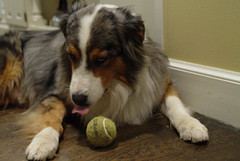tennis ball: (84, 115, 118, 149)
